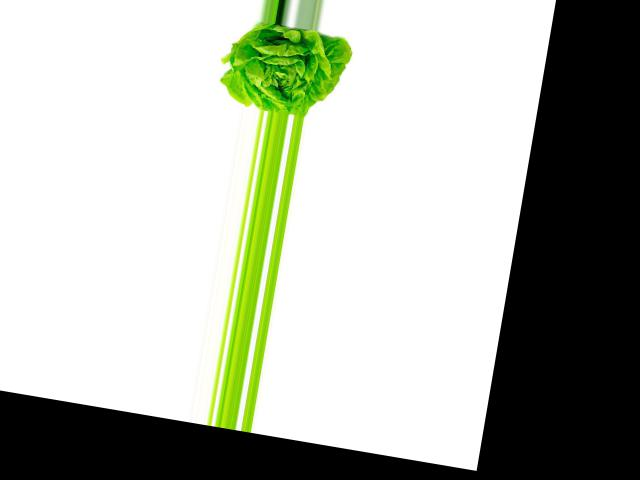lettuce: (219, 16, 357, 123)
